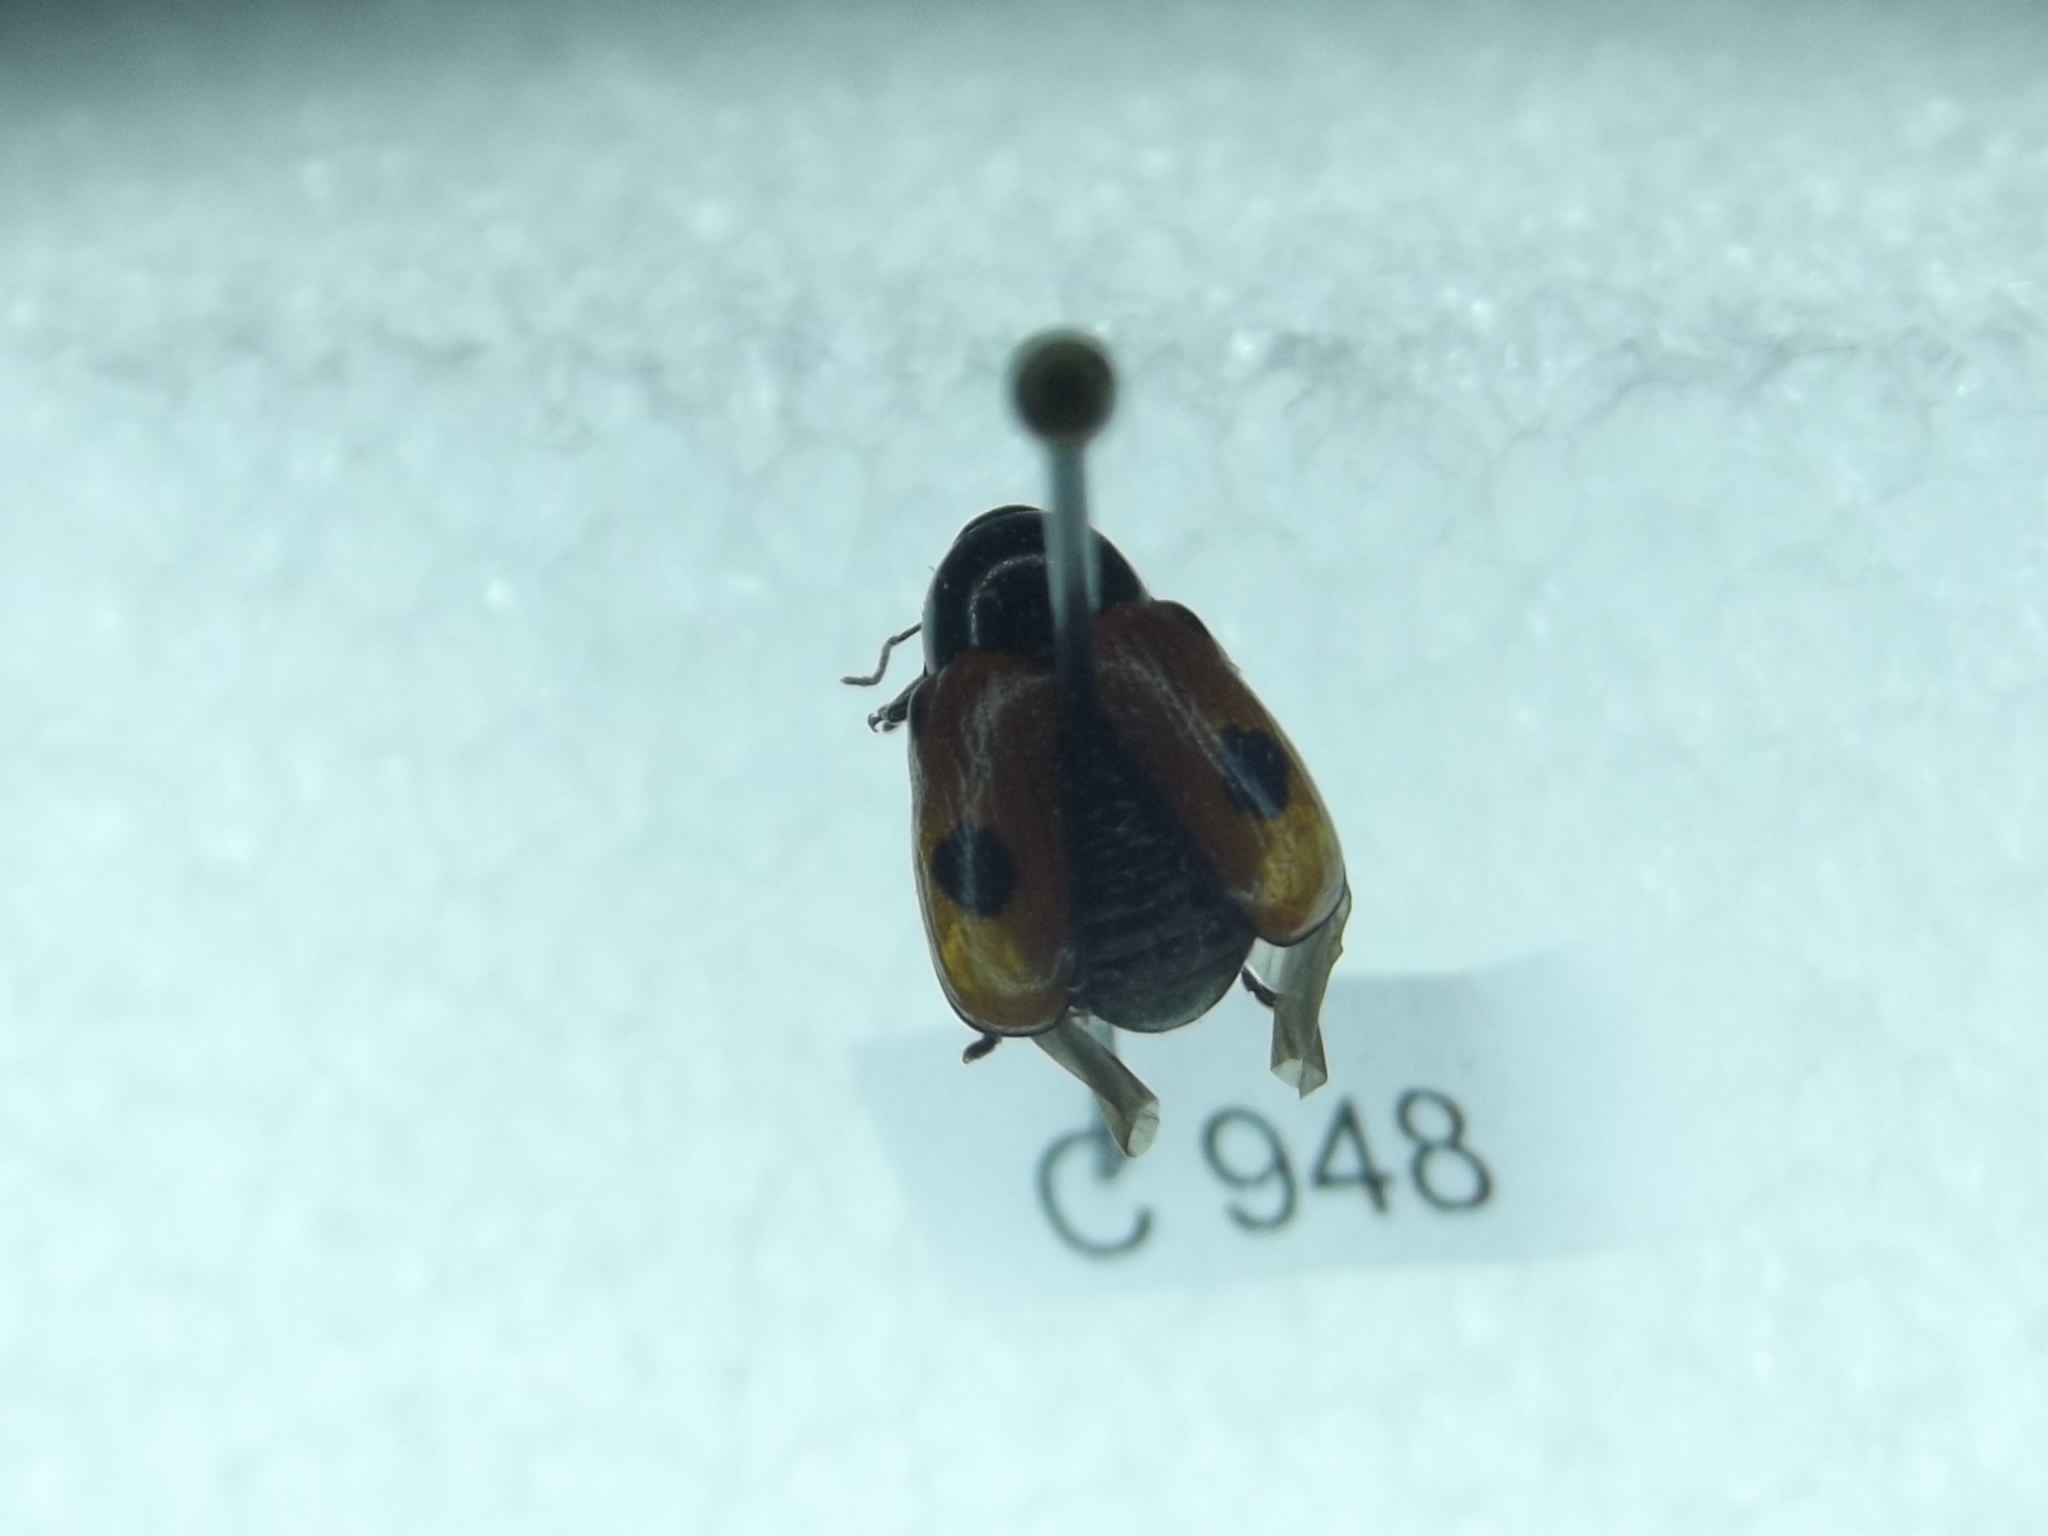Cryptocephalus_bipunctatus: (840, 487, 1408, 1175)
